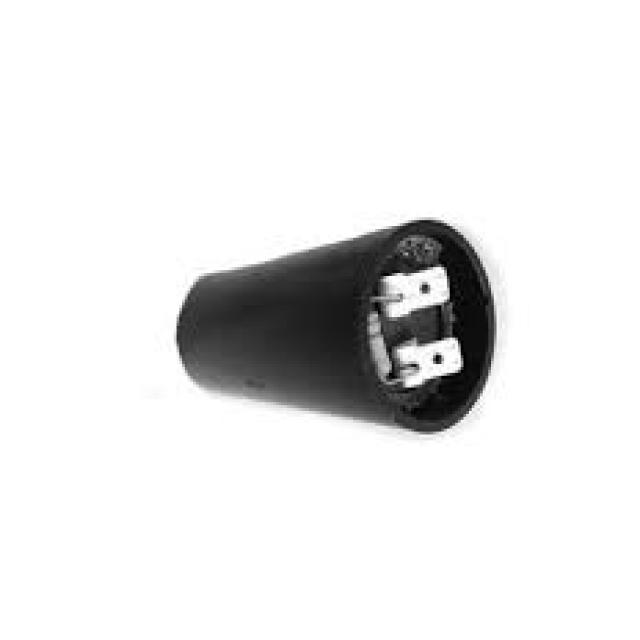Capacitor: (174, 220, 499, 437)
